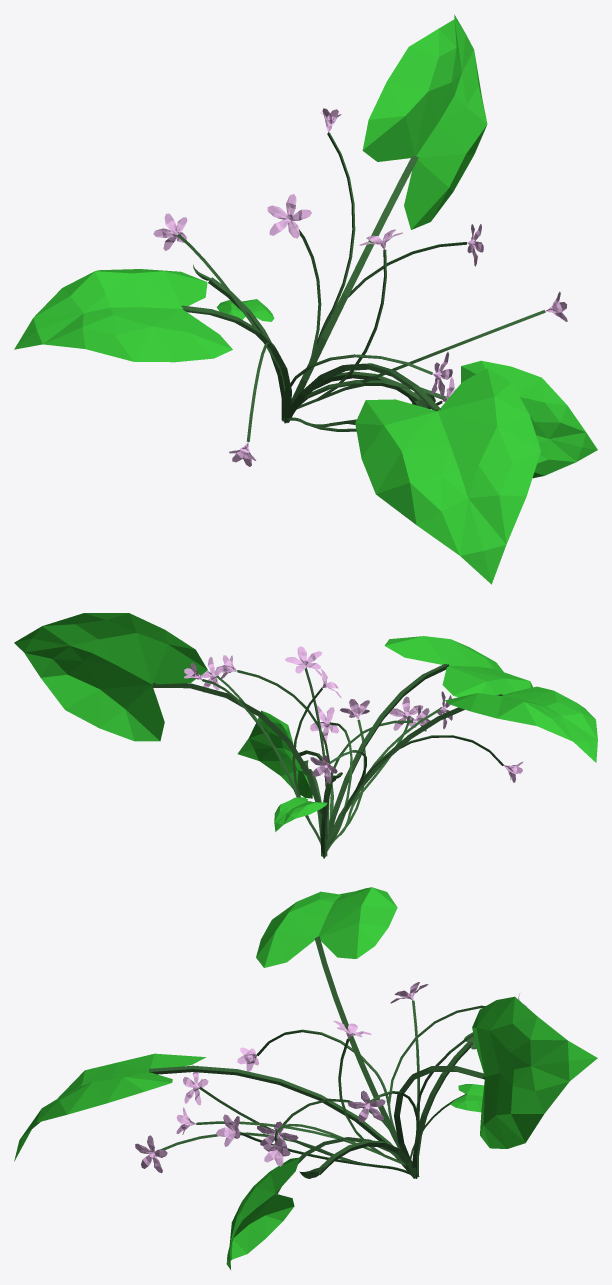
Rendered from violet_only_age100.obj.
3 renders of one model, top to bottom at view 1: azimuth 30°, elevation 25°; view 2: azimuth 150°, elevation 25°; view 3: azimuth 270°, elevation 25°, orthographic. The views are drawn at different scales.
Visible parts, largest first — view 1: violet_Leaf, violet_Petiole, violet_1Pdcel, violet_1Petal1, violet_1stPetiole; view 2: violet_Leaf, violet_Petiole, violet_1Petal1, violet_1Pdcel, violet_1InfInt, violet_1stPetiole; view 3: violet_Leaf, violet_Petiole, violet_1Pdcel, violet_1Petal1, violet_1stPetiole, violet_1InfInt.
Part boxes in pixels (x1=…): violet_Leaf: x1=14, y1=14, x2=597, y2=584; violet_Petiole: x1=181, y1=156, x2=446, y2=422; violet_1Pdcel: x1=177, y1=132, x2=545, y2=441; violet_1Petal1: x1=153, y1=108, x2=567, y2=466; violet_1stPetiole: x1=208, y1=277, x2=419, y2=422; violet_Leaf: x1=14, y1=613, x2=597, y2=831; violet_Petiole: x1=152, y1=664, x2=502, y2=855; violet_1Petal1: x1=184, y1=646, x2=523, y2=783; violet_1Pdcel: x1=202, y1=667, x2=503, y2=834; violet_1InfInt: x1=283, y1=761, x2=373, y2=851; violet_1stPetiole: x1=302, y1=769, x2=337, y2=857; violet_Leaf: x1=14, y1=887, x2=597, y2=1269; violet_Petiole: x1=149, y1=936, x2=484, y2=1194; violet_1Pdcel: x1=160, y1=1000, x2=485, y2=1166; violet_1Petal1: x1=135, y1=982, x2=527, y2=1173; violet_1stPetiole: x1=319, y1=1041, x2=472, y2=1178; violet_1InfInt: x1=319, y1=1071, x2=419, y2=1175.
Bounding box in the file's own units: 241 × 126 × 239.
